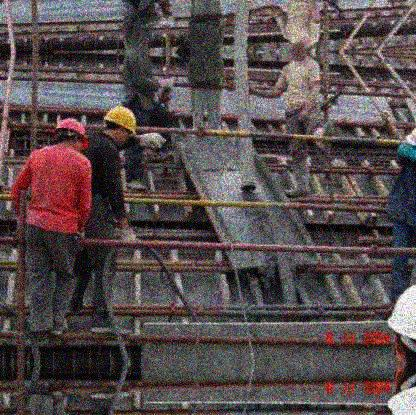helmet: (102, 108, 139, 151), (50, 118, 88, 153)
